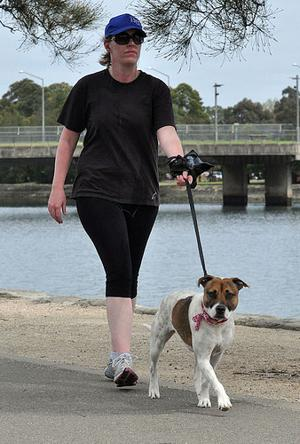person: (48, 18, 193, 380)
